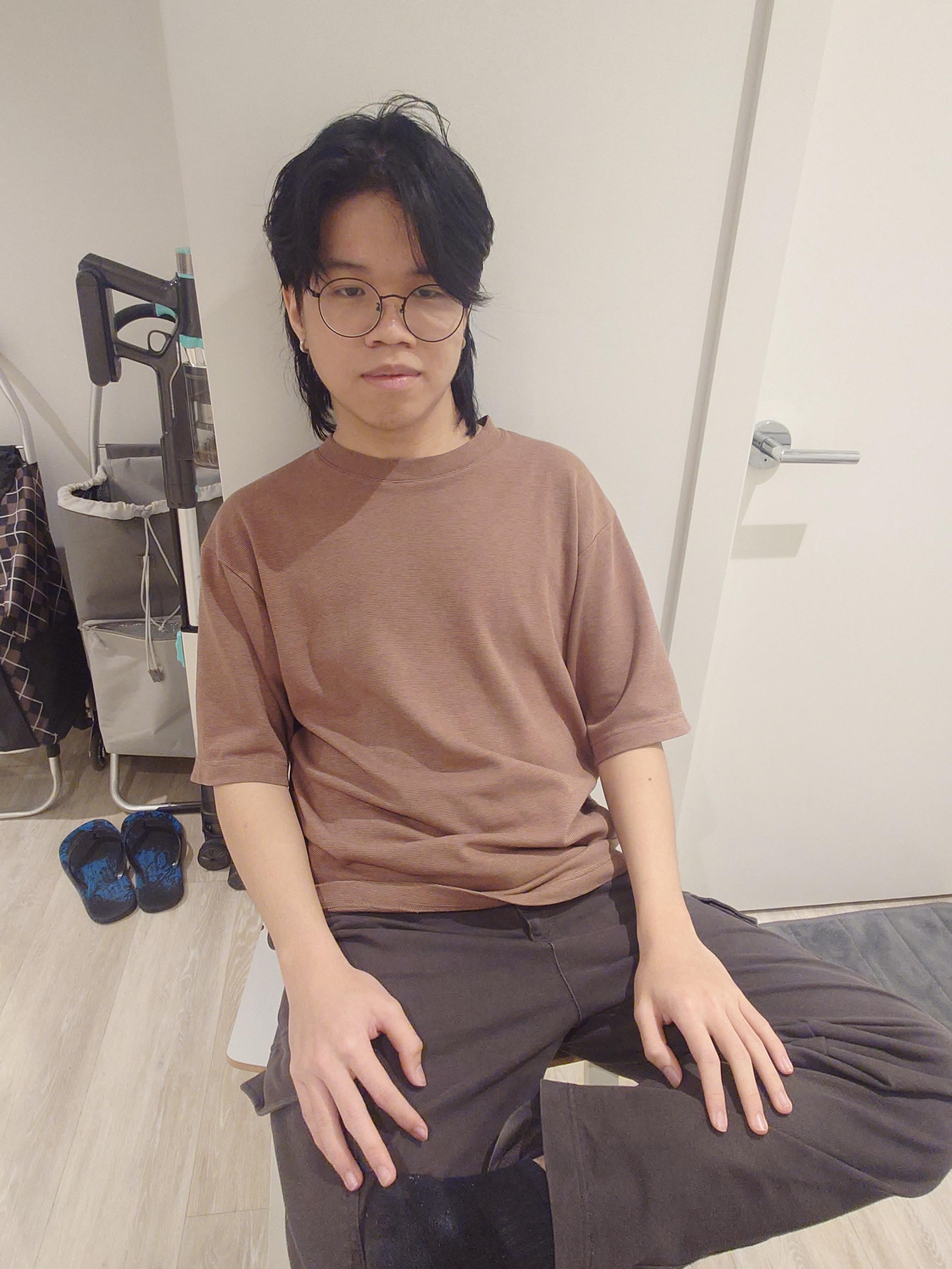BadPosture: (189, 114, 951, 1269)
